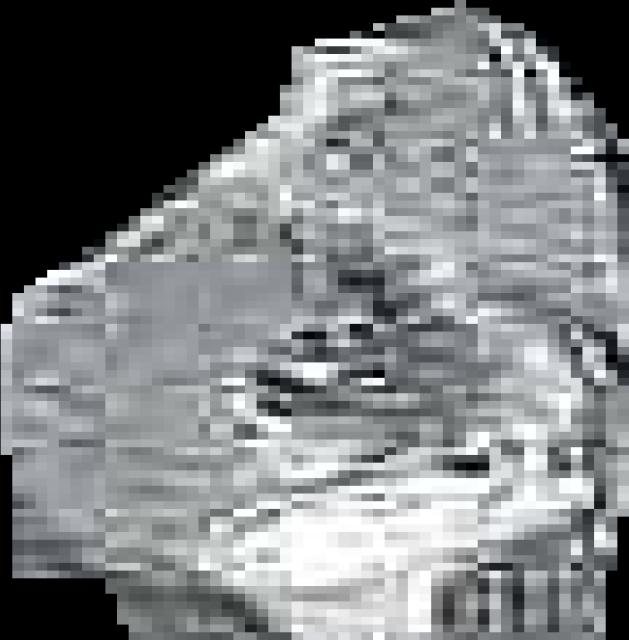tumor_less_chance: (1, 0, 629, 640)
